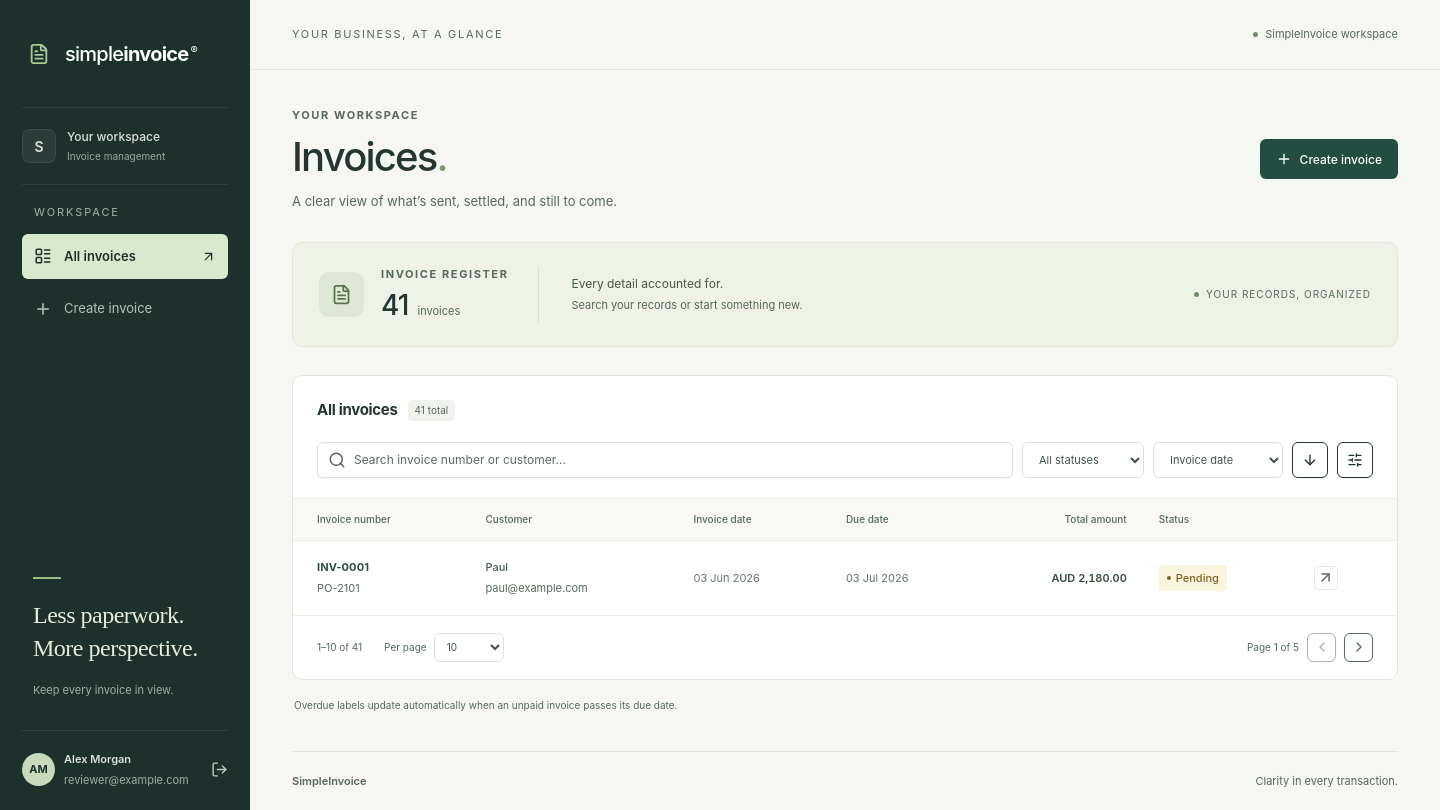
Scenario: Invoice list controls › shows an empty search result and allows clearing filters
Check: the link "INV-0001" is shown, box [317, 560, 369, 574]
Select "Overdue" in the dropdown named "Filter by status". click: coordinates (1083, 460)
box: [1022, 442, 1144, 478]
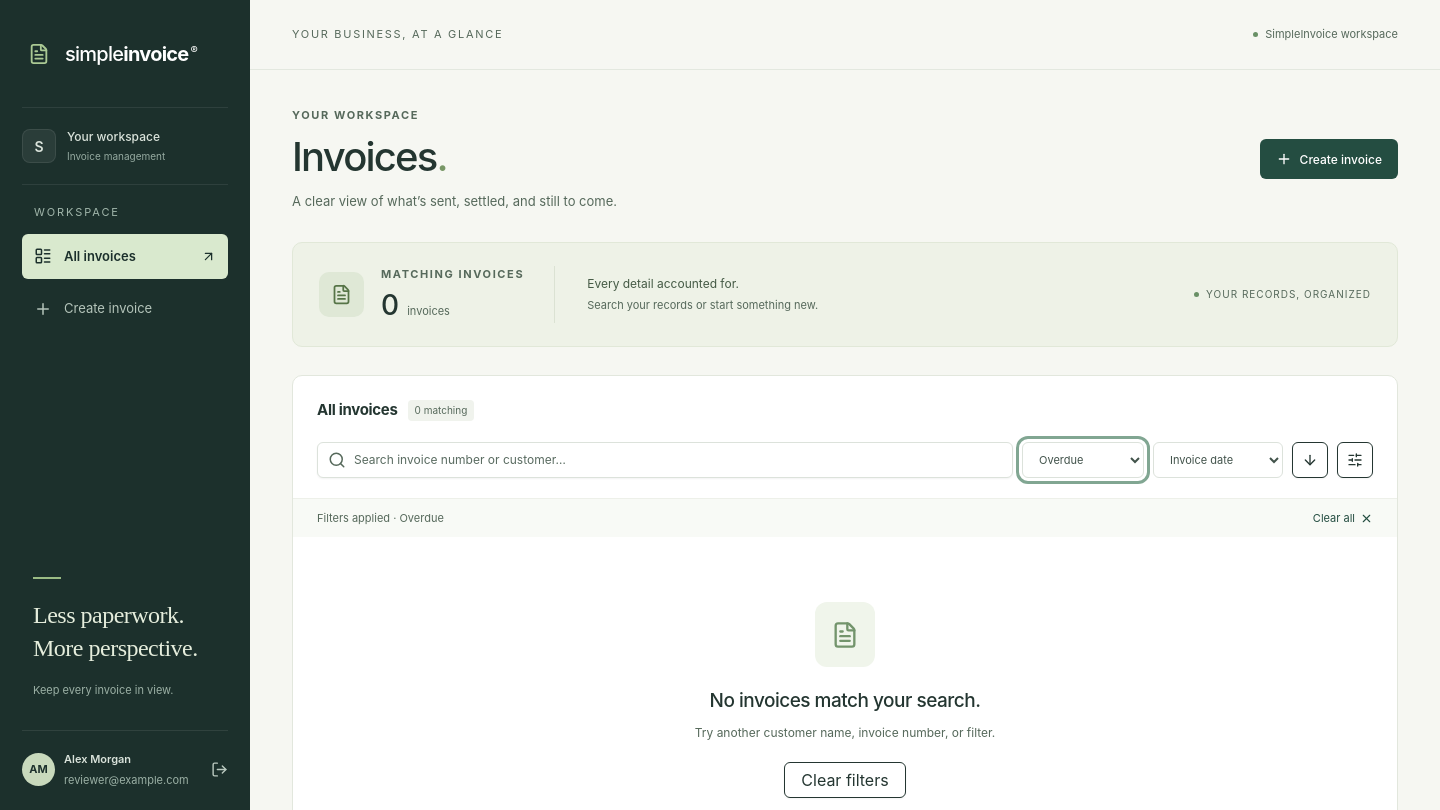
Check: the heading "No invoices match your search." is shown, box [710, 688, 980, 716]
Click the button "Clear filters". click: coordinates (845, 780)
box: [784, 762, 906, 798]
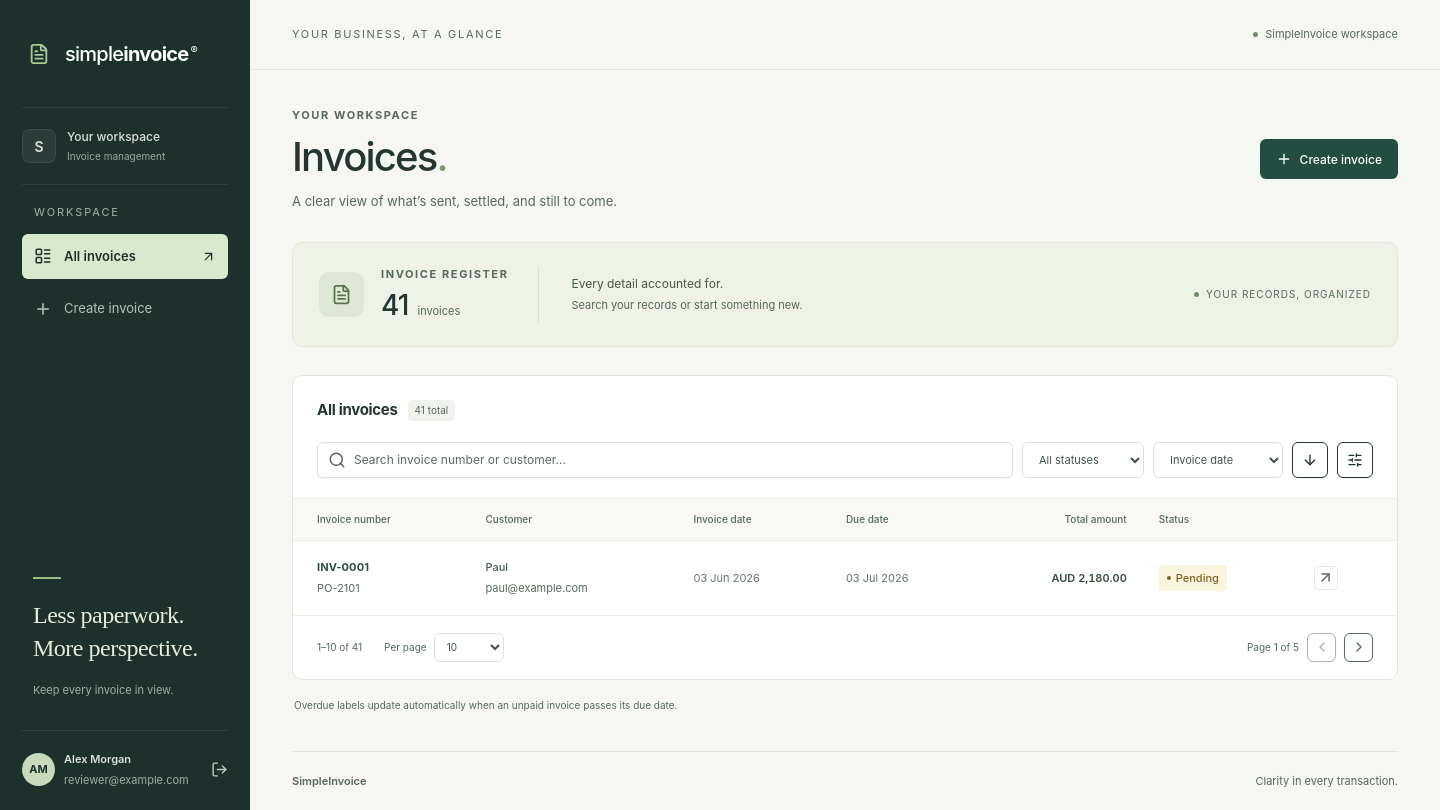
Check: the link "INV-0001" is shown, box [317, 560, 369, 574]
